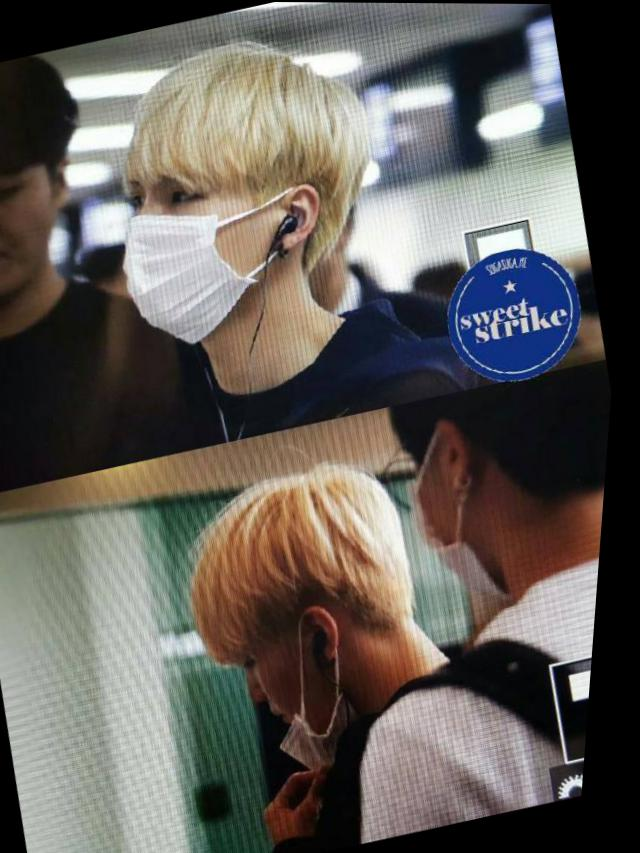NONE: (1, 148, 77, 311)
OK: (98, 131, 331, 353)
WRONG: (234, 607, 389, 771)
